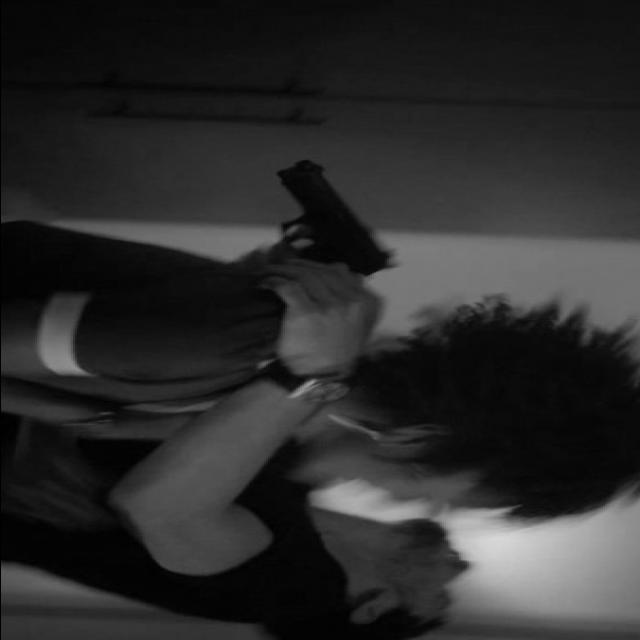weapons: (243, 151, 416, 303)
